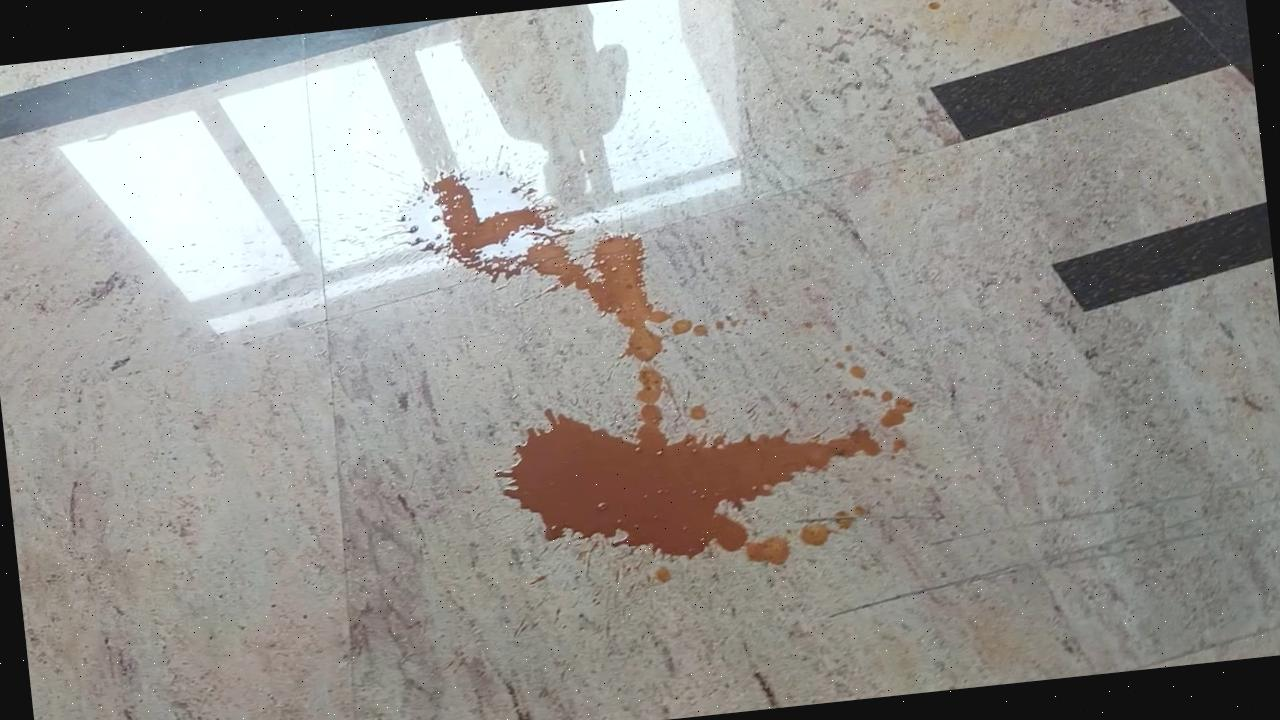dirty_floor: (383, 114, 924, 594)
